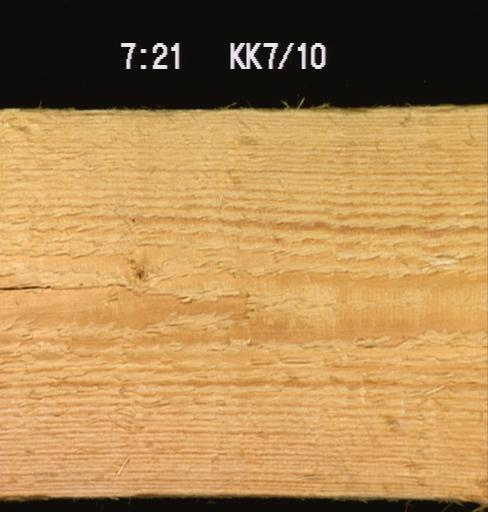small_knot: (121, 254, 157, 284)
split: (0, 267, 138, 296)
